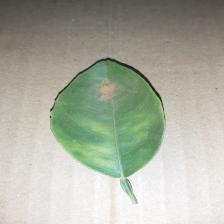greening: (49, 99, 182, 168)
